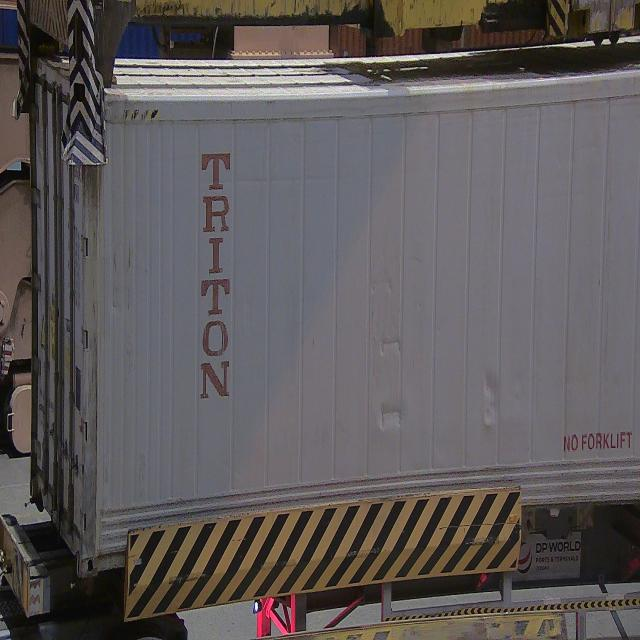dent: (369, 318, 415, 438)
